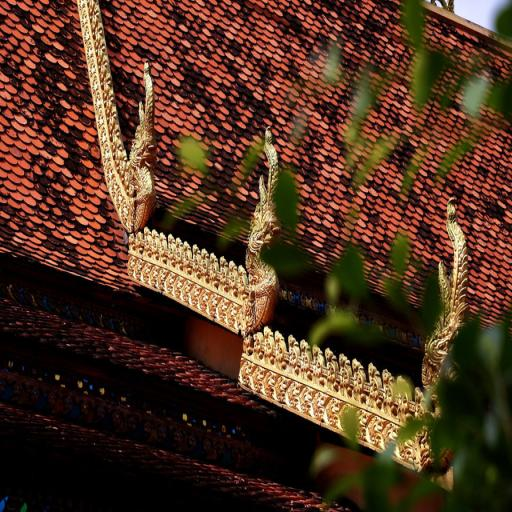ran: (386, 182, 492, 500), (214, 128, 304, 348), (99, 49, 175, 243)
